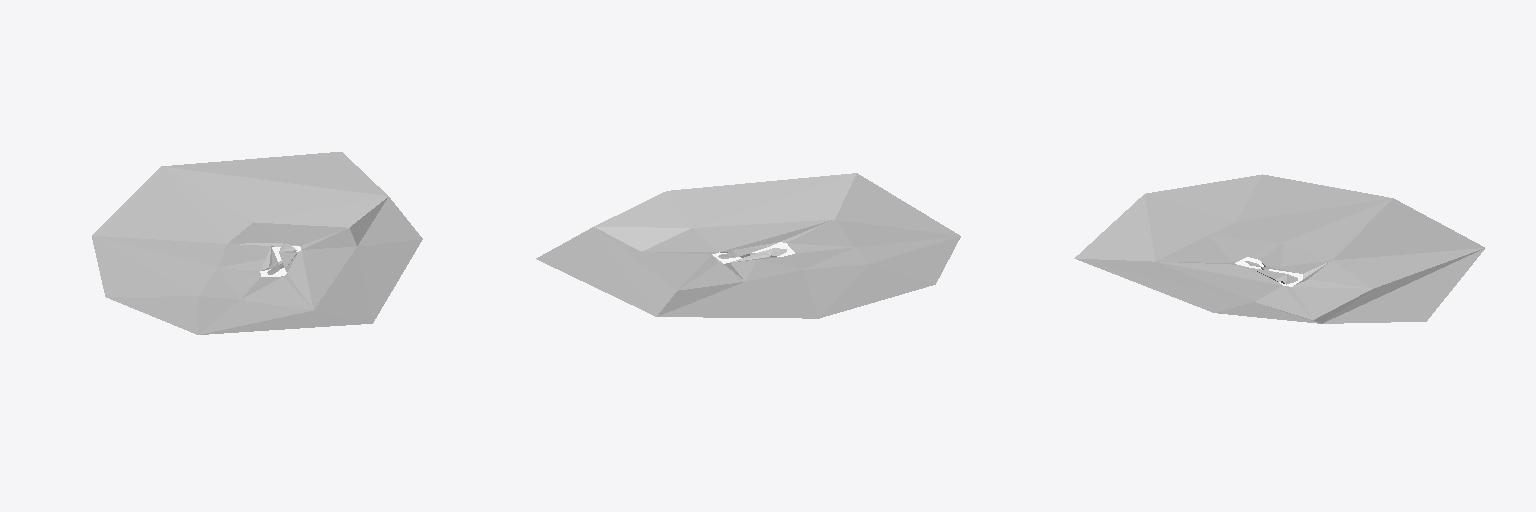
The model's file is MugenStageOrnament.obj.
3 views of the same model, side by side, from view 1: azimuth 30°, elevation 25°; view 2: azimuth 150°, elevation 25°; view 3: azimuth 270°, elevation 25° (orthographic).
Parts seen in each view (by area): view 1: ornament_平面.006; view 2: ornament_平面.006; view 3: ornament_平面.006.
Part boxes in pixels (x1,y1,x2,y2): ornament_平面.006: (92,152,422,334); ornament_平面.006: (536,173,960,318); ornament_平面.006: (1074,174,1484,323).
Bounding box in the file's own units: 450 × 33.09 × 504.